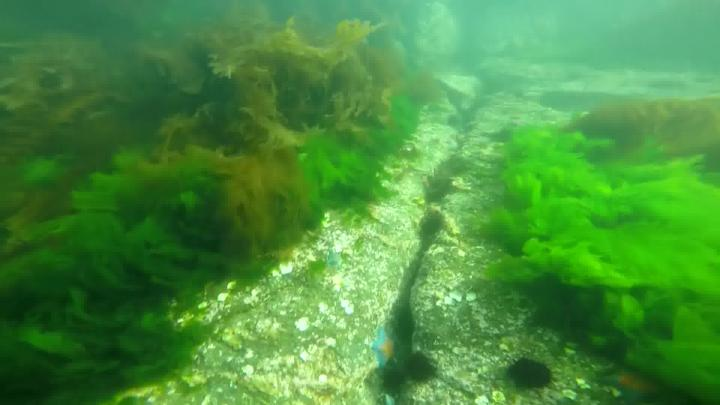echinus: (504, 357, 553, 390), (403, 353, 436, 385), (374, 364, 411, 391), (423, 215, 442, 235)
scallop: (341, 301, 356, 316), (296, 317, 310, 332), (280, 262, 294, 276), (243, 297, 259, 305)
starfish: (601, 370, 667, 405), (374, 332, 404, 366)
